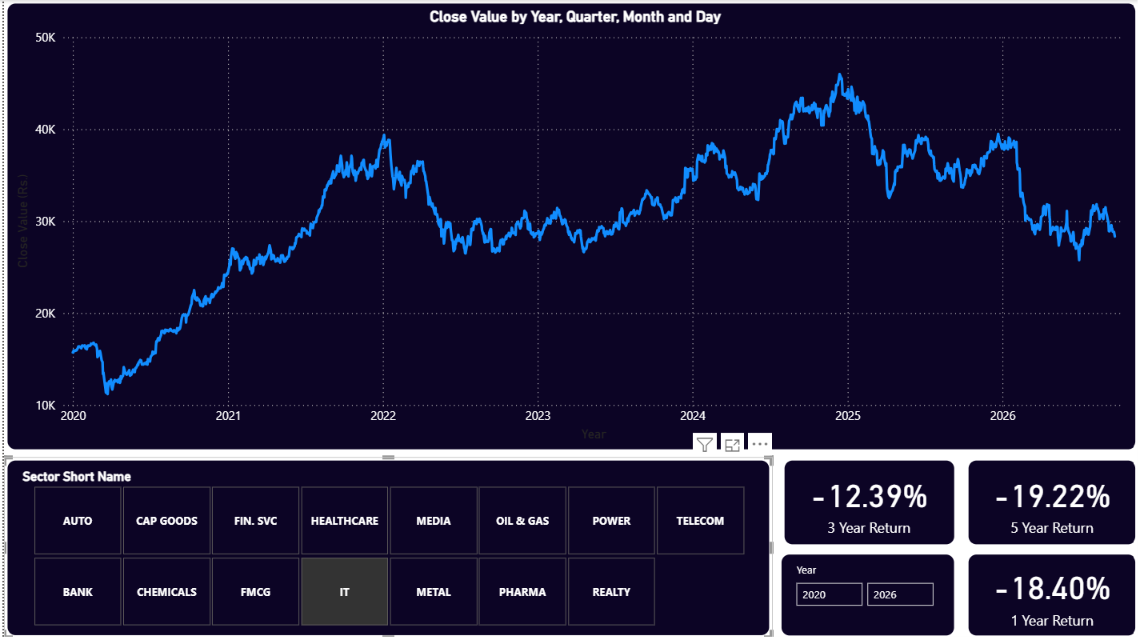

The dashboard page shown, as its layout file describes it:
{"tool":"powerbi","page":{"name":"Page 2","canvas":[1280,720],"ordinal":1},"visuals":[{"type":"lineChart","title":" Close Value by Year, Quarter, Month and Day","fields":{"Category":["Date Table.Date.Variation.Date Hierarchy.Year","Date Table.Date.Variation.Date Hierarchy.Quarter","Date Table.Date.Variation.Date Hierarchy.Month","Date Table.Date.Variation.Date Hierarchy.Day"],"Y":["Max(Combine Data.Close)"]},"box":[0,0,1280.2,510.5],"z":0},{"type":"slicer","fields":{"Values":["Combine Data.Sector Short Name"]},"box":[0,515.1,866.3,204.7],"z":1000},{"type":"slicer","fields":{"Values":["Date Table.Year"]},"box":[872.1,620.9,202.3,98.8],"z":1001},{"type":"card","fields":{"Values":["Combine Data.3 Year Return"]},"box":[875.6,514.5,198.8,102.3],"z":1002},{"type":"card","fields":{"Values":["Combine Data.5 Year Return"]},"box":[1083.7,514.5,196.5,102.3],"z":1003},{"type":"card","fields":{"Values":["Combine Data.1 Year Return"]},"box":[1083.7,620.9,196.5,98.8],"z":1004}]}

Visuals, with their boxes in screenshot pixels (x1, y1, x2, y2), scaled from the page's 1280x720 canvas onto the 1138x637 screenshot:
" Close Value by Year, Quarter, Month and Day" lineChart: l=0, t=0, r=1137, b=452
slicer - Combine Data.Sector Short Name: l=0, t=456, r=770, b=636
slicer - Date Table.Year: l=775, t=549, r=955, b=636
card - Combine Data.3 Year Return: l=778, t=455, r=955, b=546
card - Combine Data.5 Year Return: l=963, t=455, r=1137, b=546
card - Combine Data.1 Year Return: l=963, t=549, r=1137, b=636
